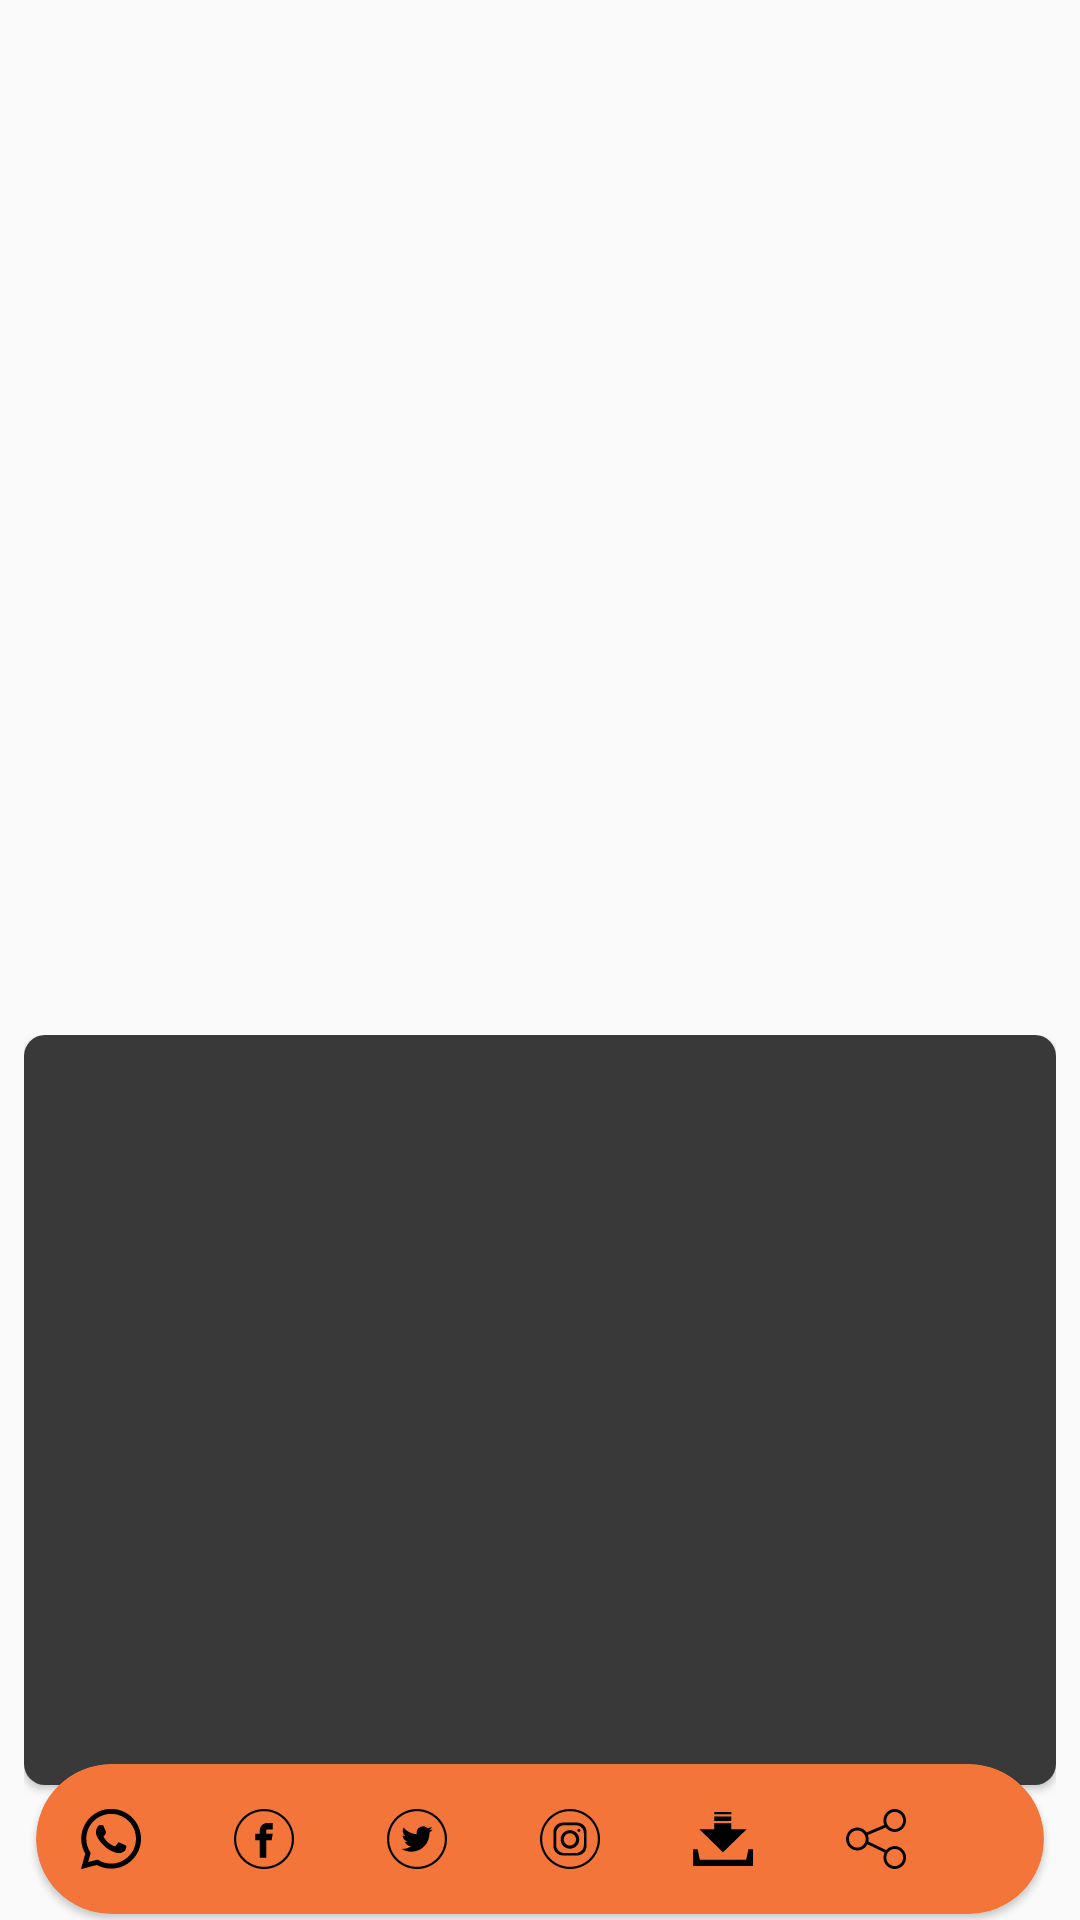

Icons on this 1080w x 1920h Android screen, each with the point to tap as (x=x, y=y):
download: (x=723, y=1839)
share: (x=876, y=1839)
